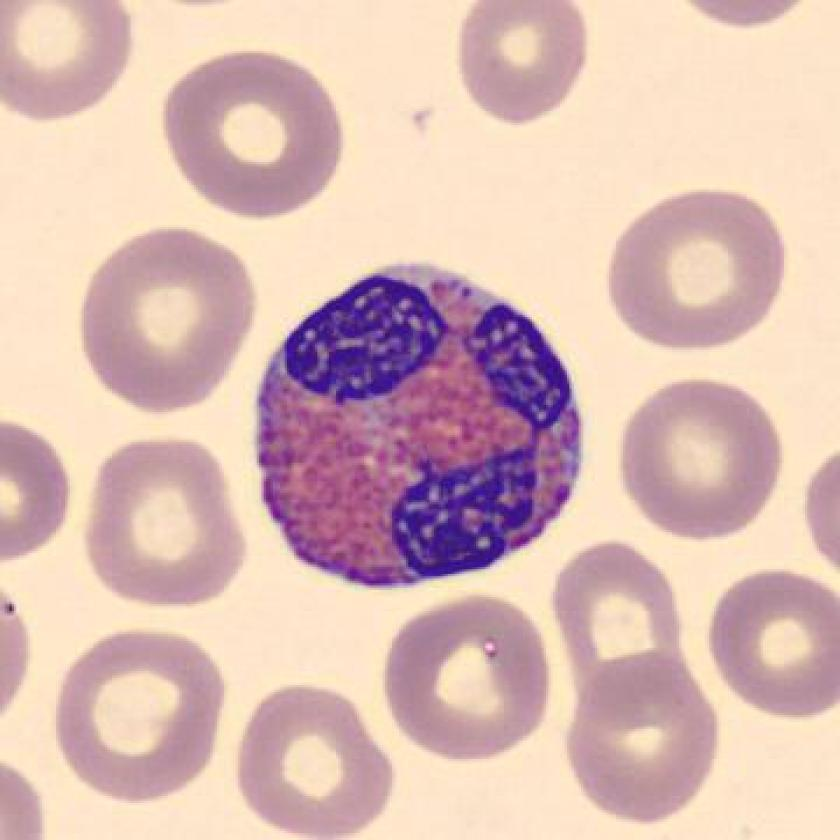eosinophil: (239, 246, 598, 603)
